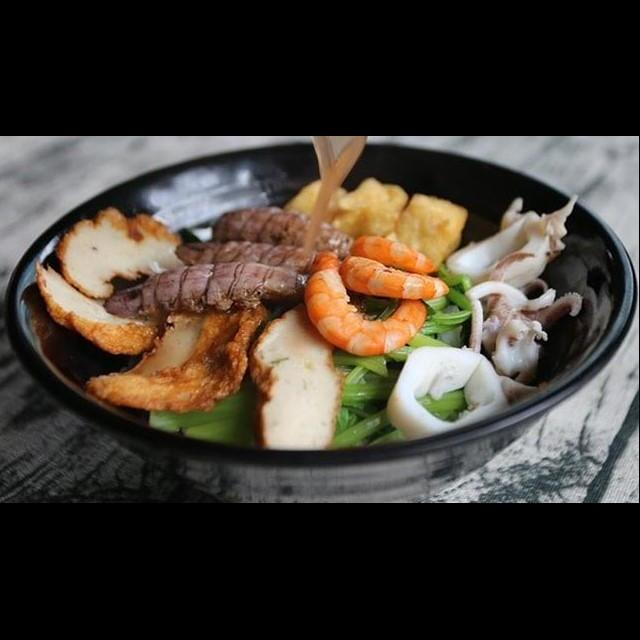dau hu: (388, 188, 472, 274), (330, 174, 410, 246), (278, 174, 354, 234)
muc: (436, 188, 586, 296), (384, 342, 516, 450), (459, 276, 586, 386)
tom: (302, 247, 434, 361), (332, 250, 454, 302), (342, 232, 448, 280)
tom tit: (96, 260, 314, 326), (202, 204, 360, 264), (170, 238, 338, 274)
